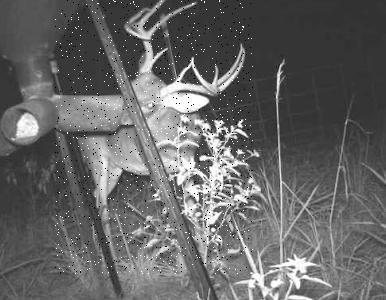Deer: (55, 0, 253, 274)
